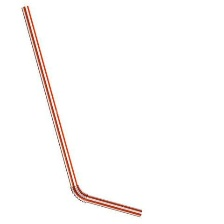drinking_straw: (14, 1, 148, 220)
